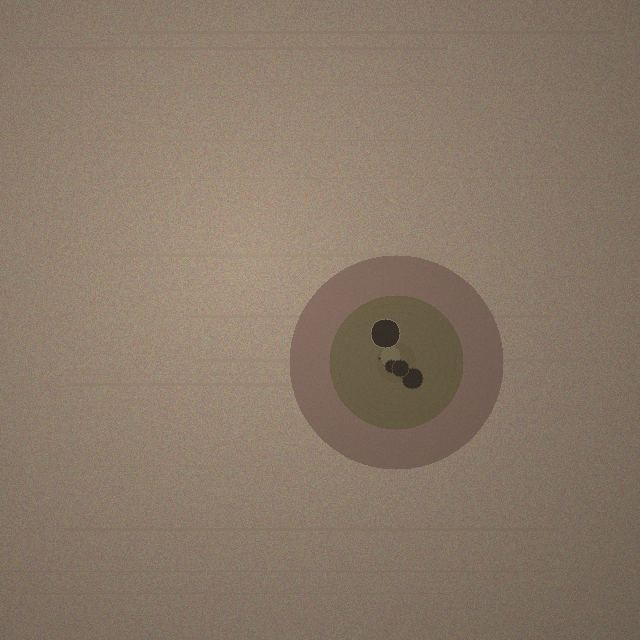shrinkage: (289, 255, 503, 469)
